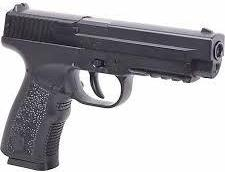gun: (1, 1, 225, 172)
